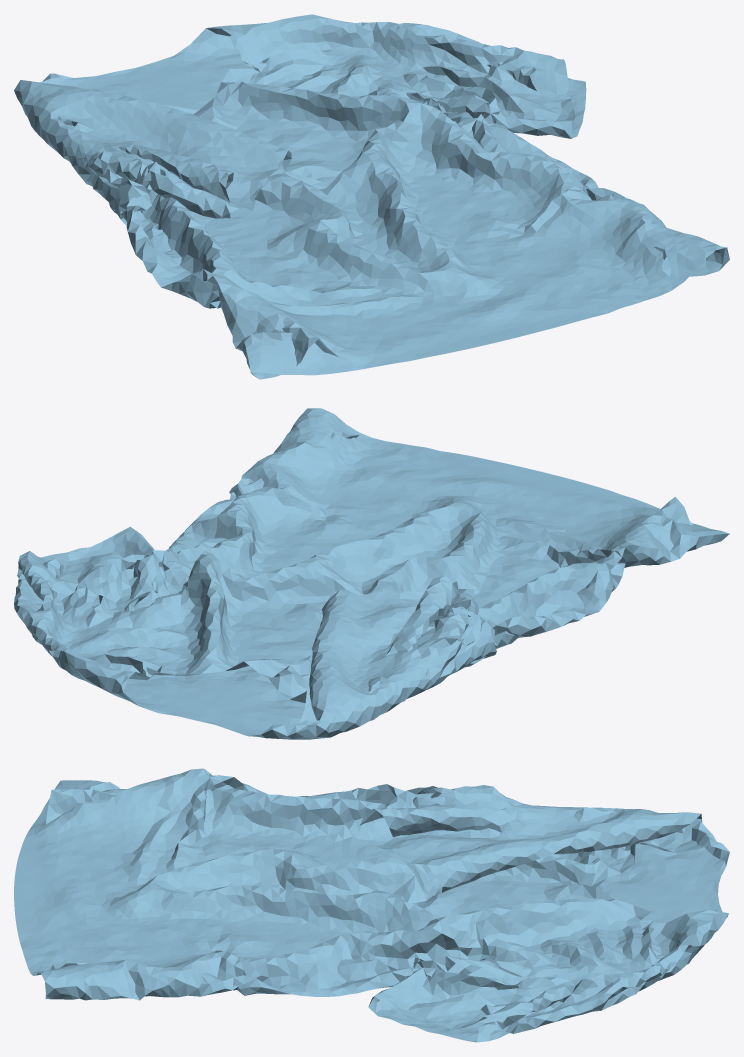
Rendered from frame_01.glb.
The picture shows the model from 3 angles, top to bottom: view 1: azimuth 30°, elevation 25°; view 2: azimuth 150°, elevation 25°; view 3: azimuth 270°, elevation 25°; orthographic projection. The views are drawn at different scales.
Parts seen in each view (by area): view 1: frame_01.obj; view 2: frame_01.obj; view 3: frame_01.obj.
Boxes of the visible parts, box(x1,y1,x2,y2) form: frame_01.obj: box(14, 14, 729, 379); frame_01.obj: box(14, 408, 729, 739); frame_01.obj: box(14, 768, 729, 1042).
Size of the model in its own units: 1.43 by 0.1337 by 1.69.
